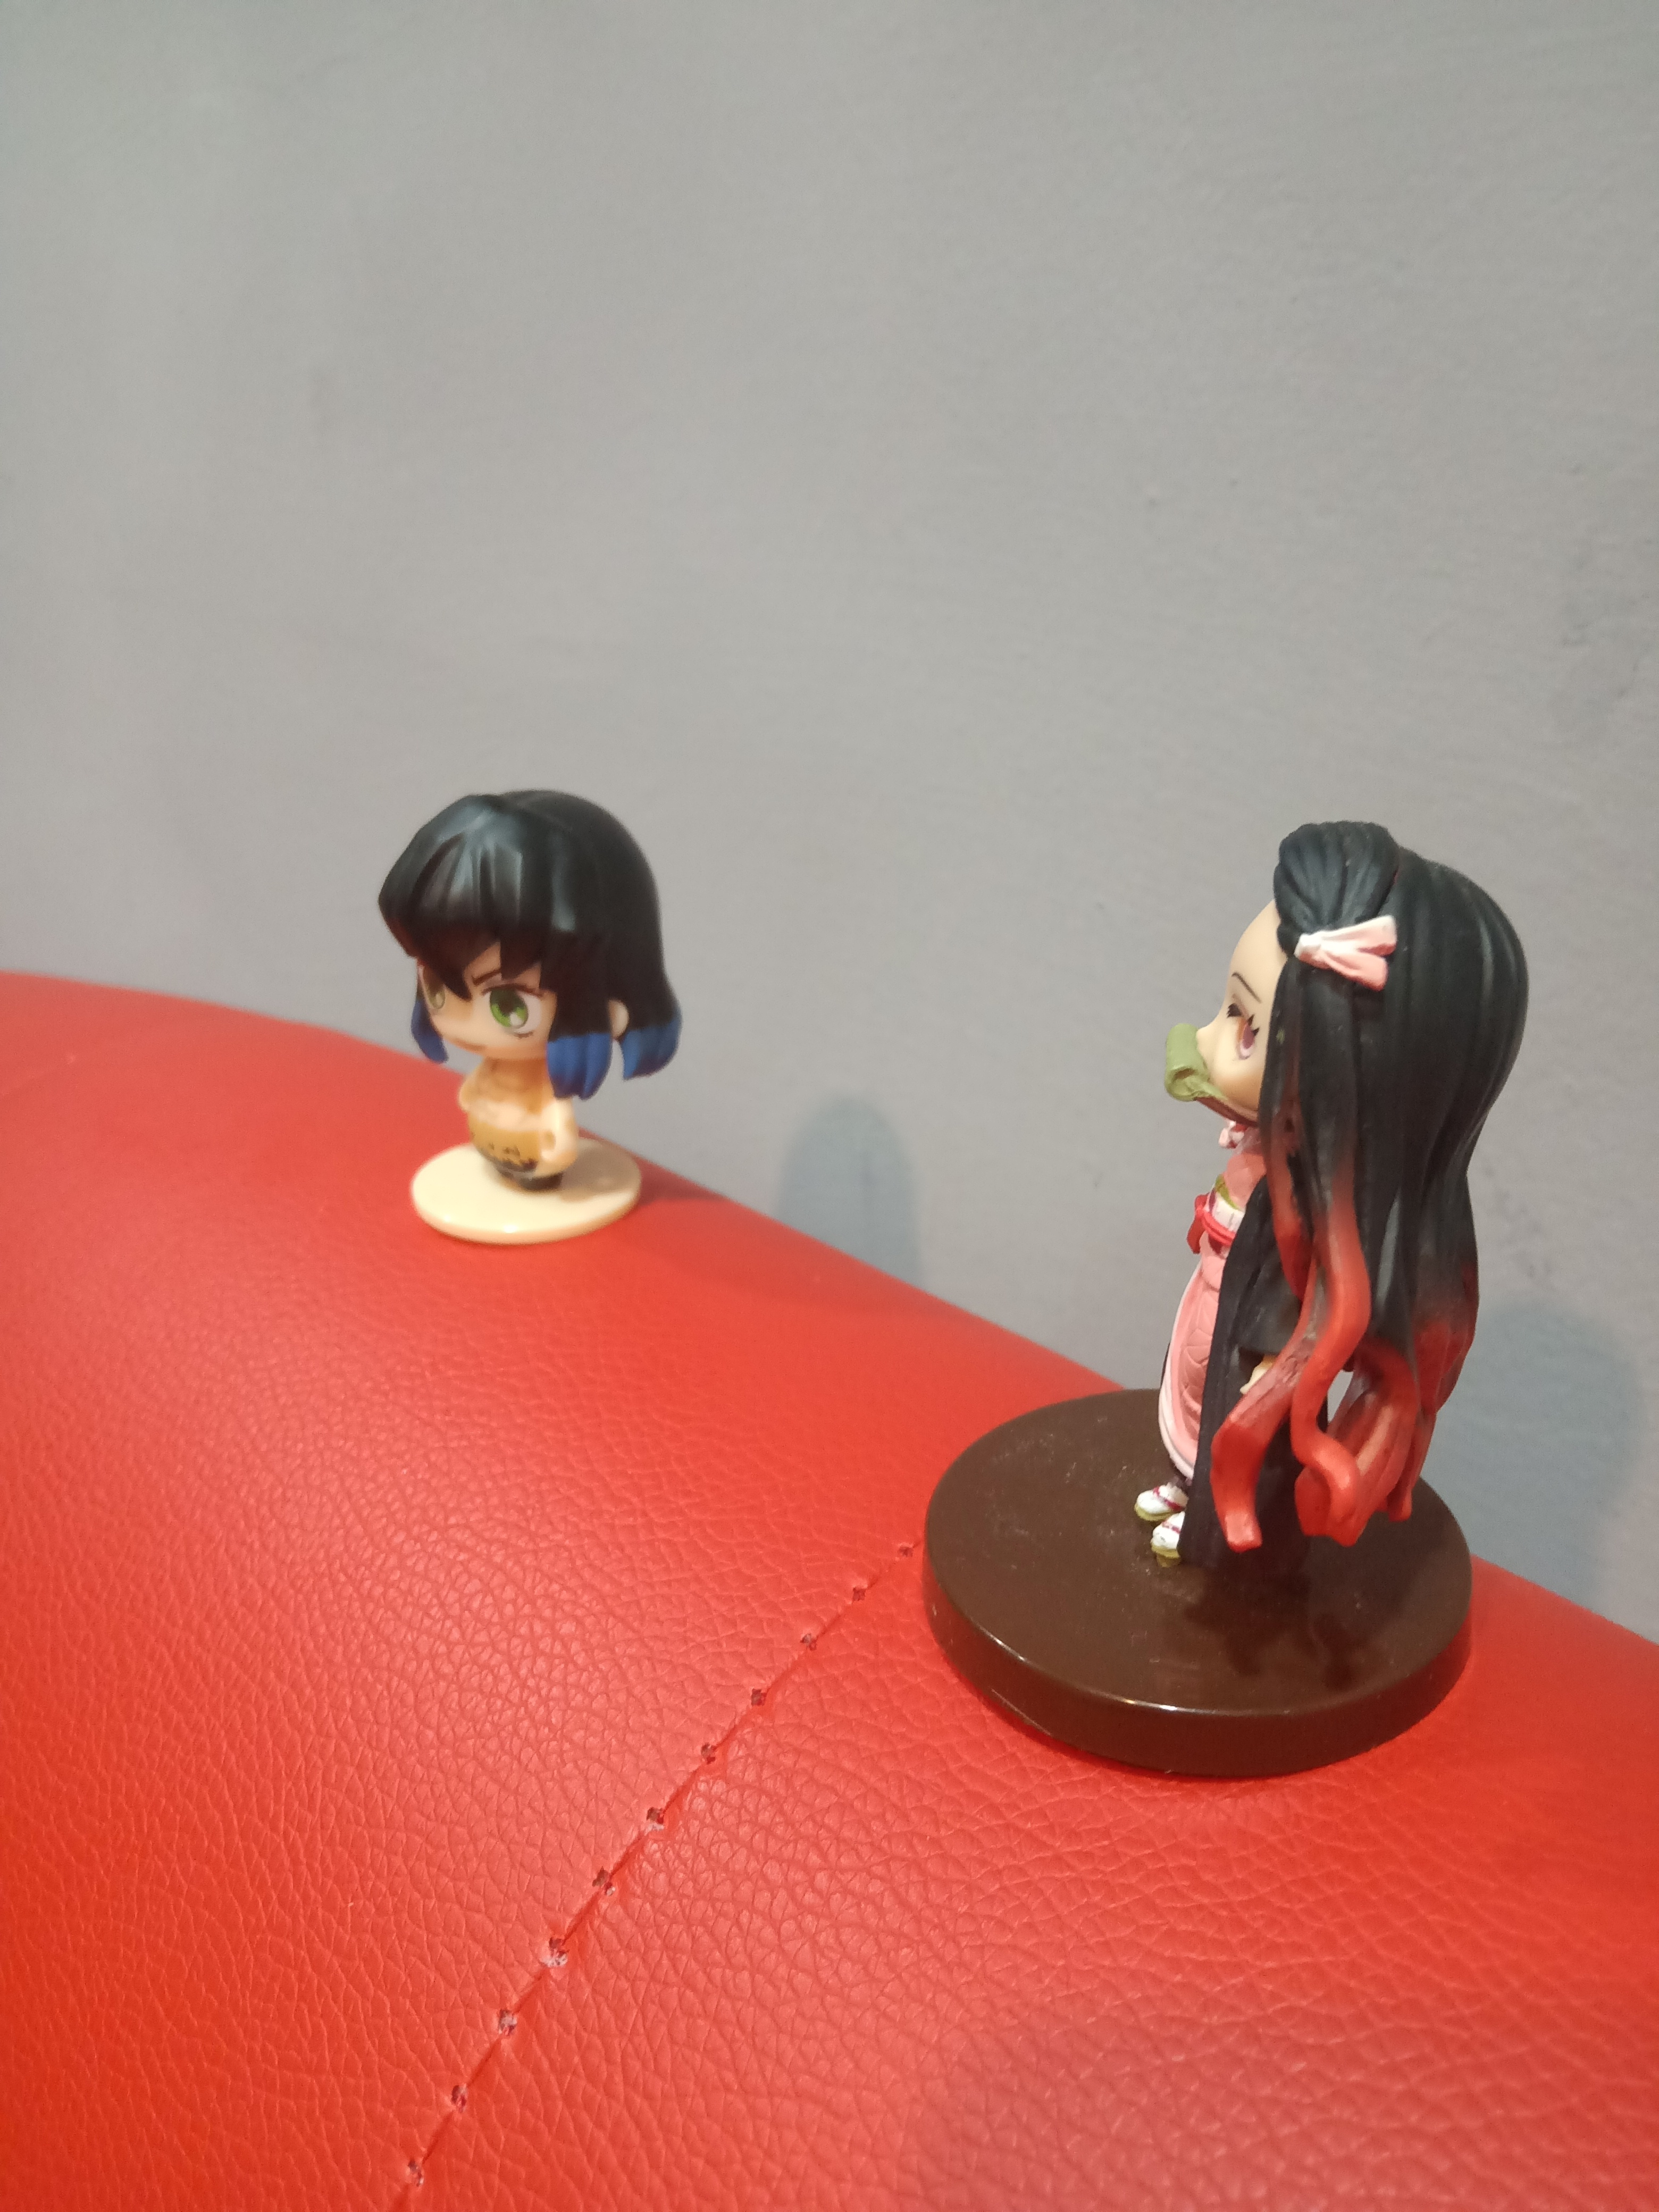Inosuke: (349, 775, 695, 1259)
Nezuko: (897, 799, 1553, 1803)
